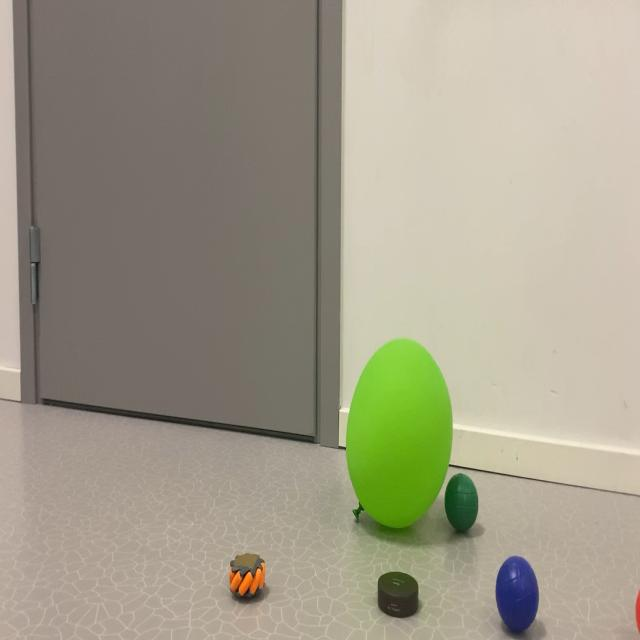green ball: (485, 521, 553, 640)
red ball: (438, 436, 490, 548)
